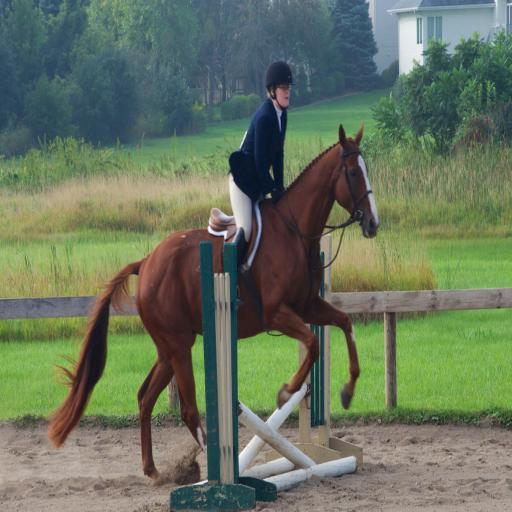Horse: (48, 126, 380, 491)
